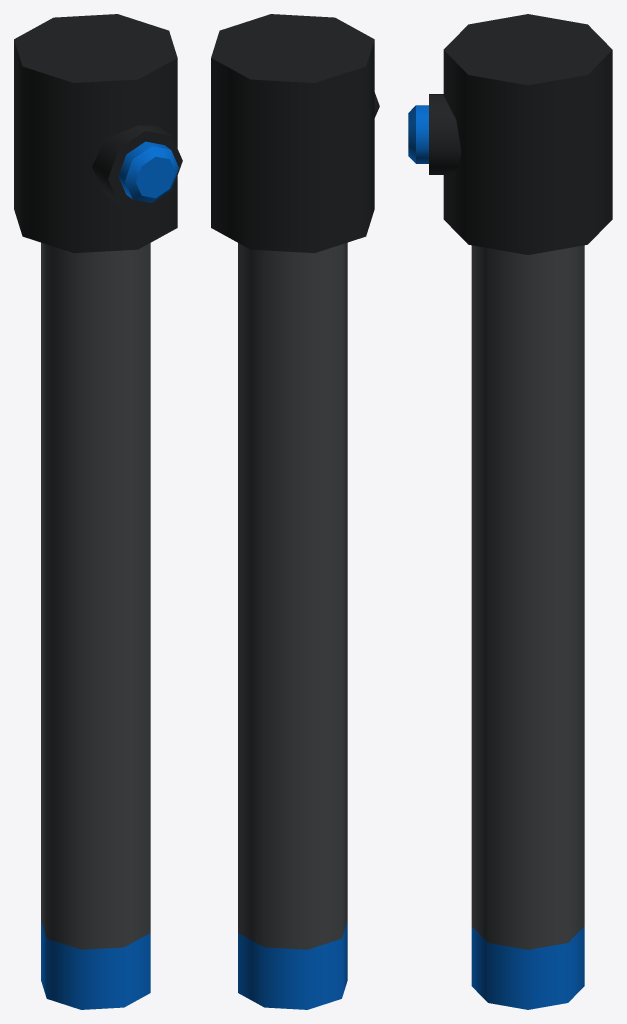
Rendered from SelfieStick_01.fbx.
3 views of the same model, side by side, from view 1: azimuth 30°, elevation 25°; view 2: azimuth 150°, elevation 25°; view 3: azimuth 270°, elevation 25° (orthographic).
Visible parts, largest first — view 1: SelfieStick_01; view 2: SelfieStick_01; view 3: SelfieStick_01.
Boxes of the visible parts, x1,y1,x2,y2 form: SelfieStick_01: (14,14,182,1009); SelfieStick_01: (211,14,379,1009); SelfieStick_01: (408,14,612,1009).
Size of the model in its own units: 5.79 by 7 by 35.42.
